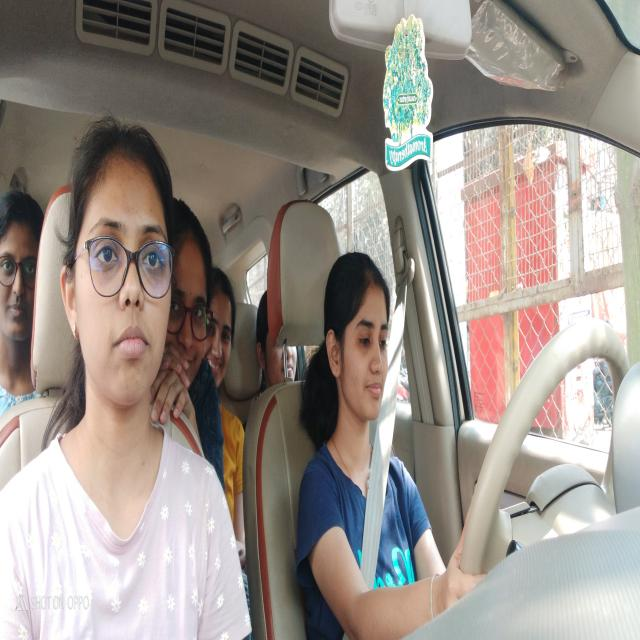person: (58, 112, 175, 406), (324, 246, 391, 430), (166, 197, 211, 415), (0, 189, 48, 371), (255, 284, 303, 406), (212, 259, 236, 389)
